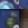mirror: (0, 0, 19, 9)
